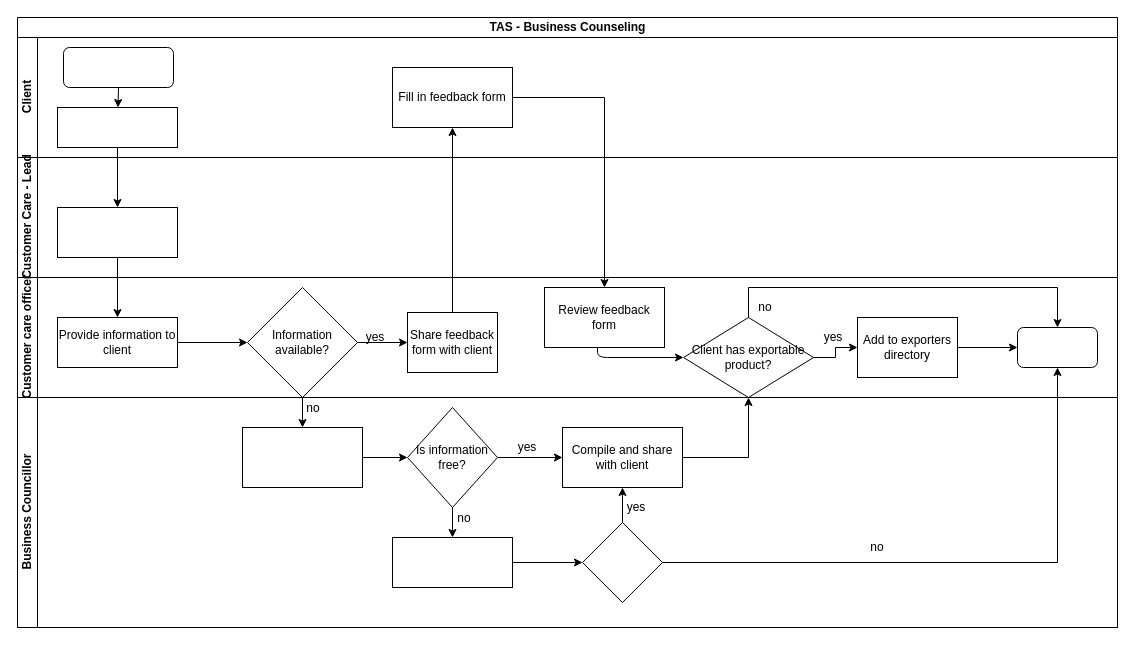
This 1135x645 diagram has some shape labels left out. Here are the shapes that lost their labels. From the top down, the centre of each, then its label:
At [118,67]: "Start".
At [117,127]: "Submit a query (email, phone,walk in)".
At [117,232]: "Assign to officer for action".
At [1057,347]: "End".
At [302,457]: "Find information".
At [452,562]: "Ask client to pay".
At [622,562]: "Client pays?".
